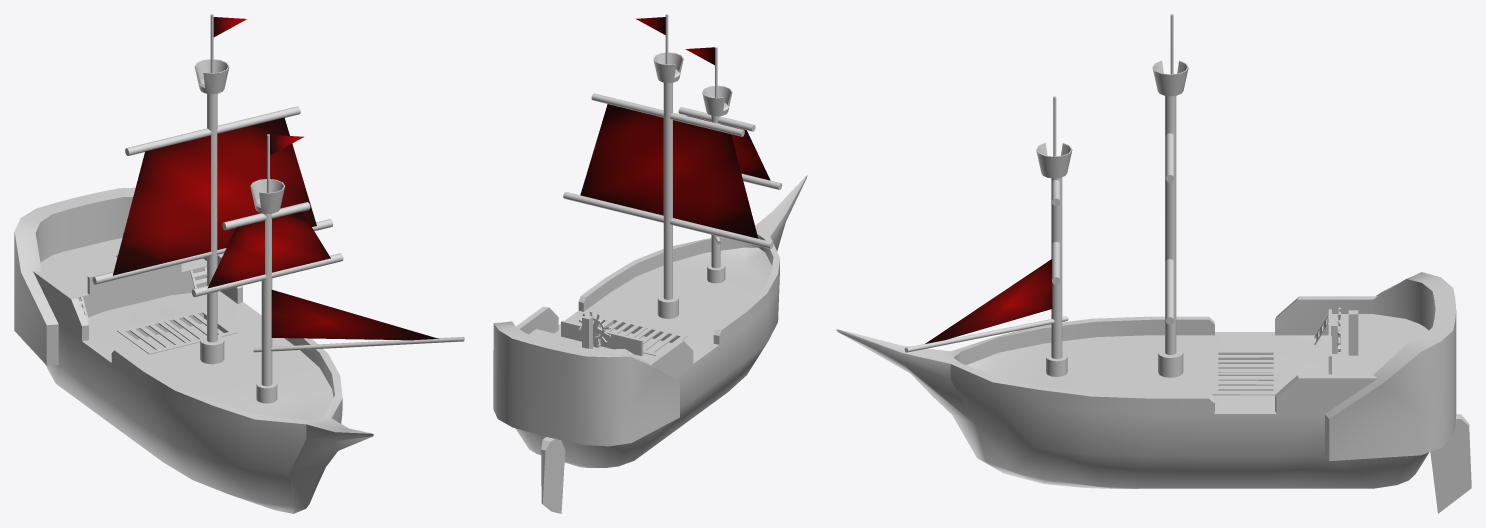
Rendered from SM_Boat.fbx.
The picture shows the model from 3 angles, left to right: view 1: azimuth 30°, elevation 25°; view 2: azimuth 150°, elevation 25°; view 3: azimuth 270°, elevation 25°; orthographic projection. The views are drawn at different scales.
Parts seen in each view (by area): view 1: Box110, Plane036, Box104, Plane028, Plane032, Cylinder059, Box109, Cylinder063, Cylinder073, Box105, Cylinder066, Cylinder065 (+4 smaller); view 2: Box110, Plane036, Cylinder059, Box108, Cylinder072, Cylinder073, Box109, Plane028, Box105, Cone003, Cone004, Cylinder063 (+4 smaller); view 3: Box110, Box104, Plane032, Cylinder059, Box109, Box108, Cylinder063, Cone003, Cone004, Cylinder066.
Boxes of the visible parts, left/top/right/bottom form: Box110: left=14, top=187, right=373, bottom=513; Plane036: left=113, top=117, right=316, bottom=275; Box104: left=40, top=238, right=206, bottom=317; Plane028: left=207, top=211, right=330, bottom=288; Plane032: left=271, top=290, right=438, bottom=340; Cylinder059: left=200, top=93, right=224, bottom=364; Box109: left=117, top=309, right=236, bottom=354; Cylinder063: left=256, top=213, right=277, bottom=403; Cylinder073: left=125, top=106, right=300, bottom=155; Box105: left=87, top=264, right=181, bottom=298; Cylinder066: left=253, top=337, right=464, bottom=352; Cylinder065: left=191, top=253, right=343, bottom=297; Box110: left=493, top=175, right=807, bottom=467; Plane036: left=580, top=104, right=758, bottom=238; Cylinder059: left=657, top=82, right=678, bottom=318; Box108: left=541, top=437, right=565, bottom=513; Cylinder072: left=563, top=192, right=773, bottom=248; Cylinder073: left=591, top=93, right=744, bottom=136; Box109: left=601, top=317, right=687, bottom=355; Plane028: left=687, top=116, right=770, bottom=180; Box105: left=561, top=320, right=643, bottom=355; Cone003: left=653, top=52, right=683, bottom=82; Cone004: left=702, top=85, right=732, bottom=116; Cylinder063: left=707, top=115, right=725, bottom=283; Box110: left=836, top=272, right=1456, bottom=488; Box104: left=1328, top=314, right=1428, bottom=375; Plane032: left=925, top=259, right=1052, bottom=343; Cylinder059: left=1158, top=95, right=1183, bottom=377; Box109: left=1212, top=350, right=1279, bottom=395; Box108: left=1430, top=414, right=1471, bottom=513; Cylinder063: left=1046, top=177, right=1067, bottom=376; Cone003: left=1152, top=60, right=1188, bottom=96; Cone004: left=1036, top=143, right=1072, bottom=178; Cylinder066: left=904, top=316, right=1068, bottom=352.
Size of the model in its own units: 243 by 525 by 453.
